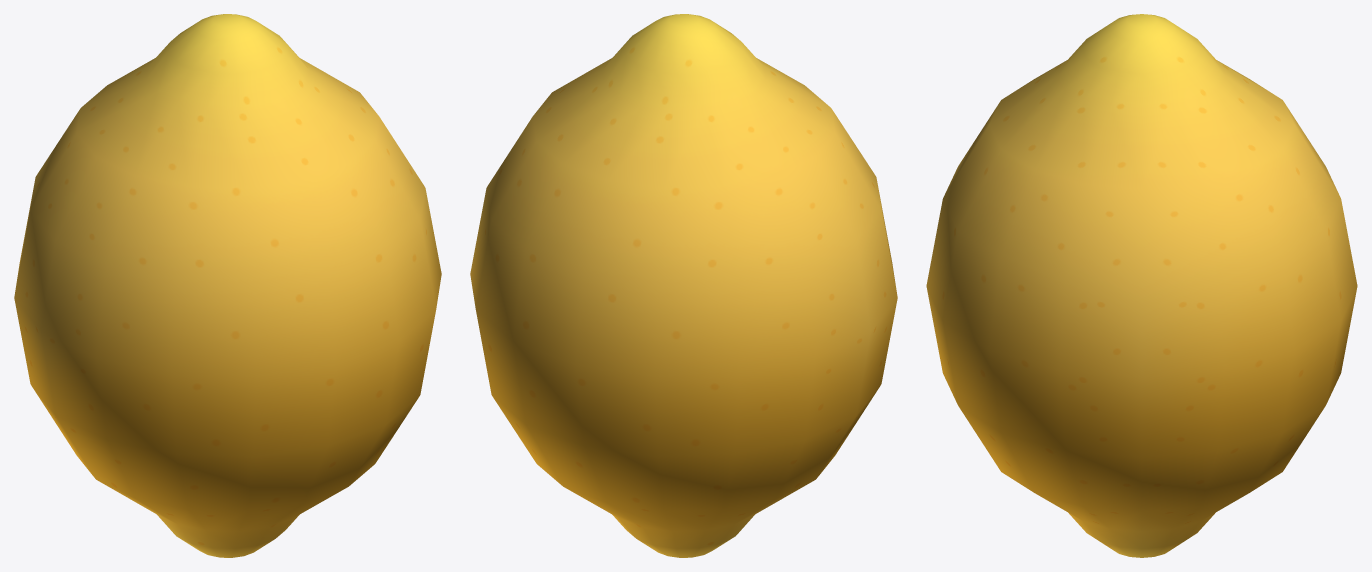
File: FOD0110013.fbx
3 renders of one model, left to right at view 1: azimuth 30°, elevation 25°; view 2: azimuth 150°, elevation 25°; view 3: azimuth 270°, elevation 25°, orthographic.
Parts seen in each view (by area): view 1: smFOD0110013; view 2: smFOD0110013; view 3: smFOD0110013.
Boxes of the visible parts, x1=… form: smFOD0110013: x1=14, y1=14, x2=441, y2=557; smFOD0110013: x1=470, y1=14, x2=897, y2=557; smFOD0110013: x1=926, y1=14, x2=1357, y2=557.
Size of the model in its own units: 4.79 by 6.51 by 4.79.
1 material, 1 textured.
